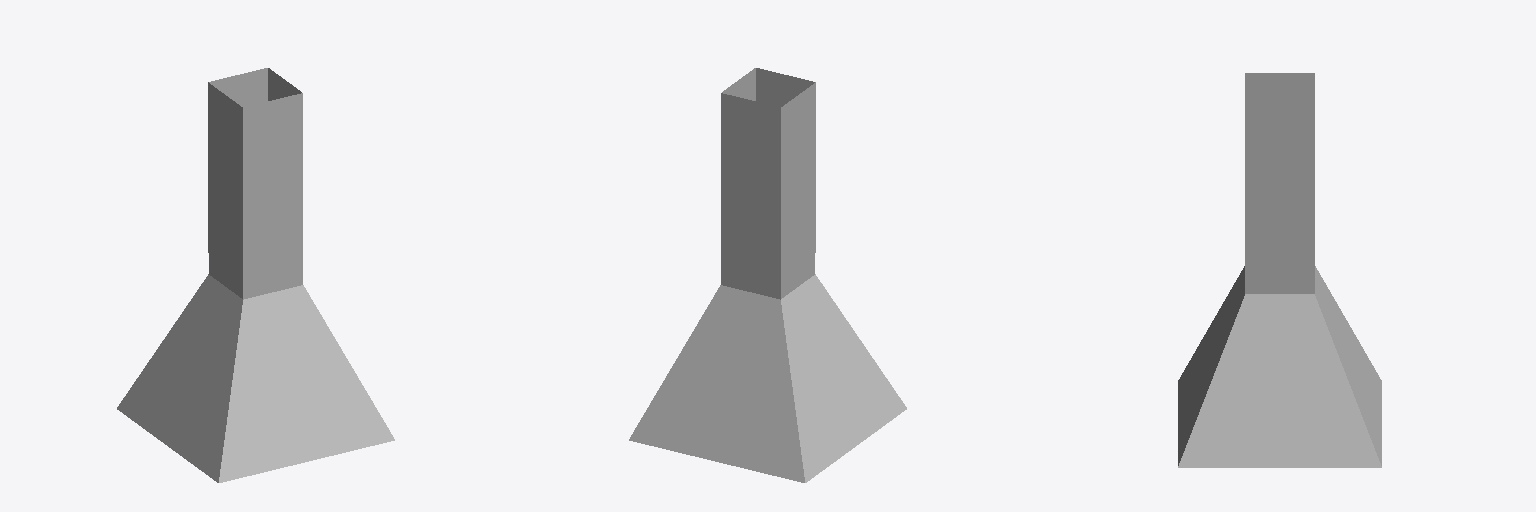
Rendered from Examplebuilding.obj.
3 views of the same model, side by side, from view 1: azimuth 30°, elevation 25°; view 2: azimuth 150°, elevation 25°; view 3: azimuth 270°, elevation 25° (orthographic).
Visible parts, largest first — view 1: Examplebuilding.obj; view 2: Examplebuilding.obj; view 3: Examplebuilding.obj.
Boxes of the visible parts, box(x1,y1,x2,y2) form: Examplebuilding.obj: box(117, 68, 394, 482); Examplebuilding.obj: box(629, 68, 906, 482); Examplebuilding.obj: box(1178, 73, 1381, 467).
Size of the model in its own units: 0.4 by 0.7282 by 0.4.